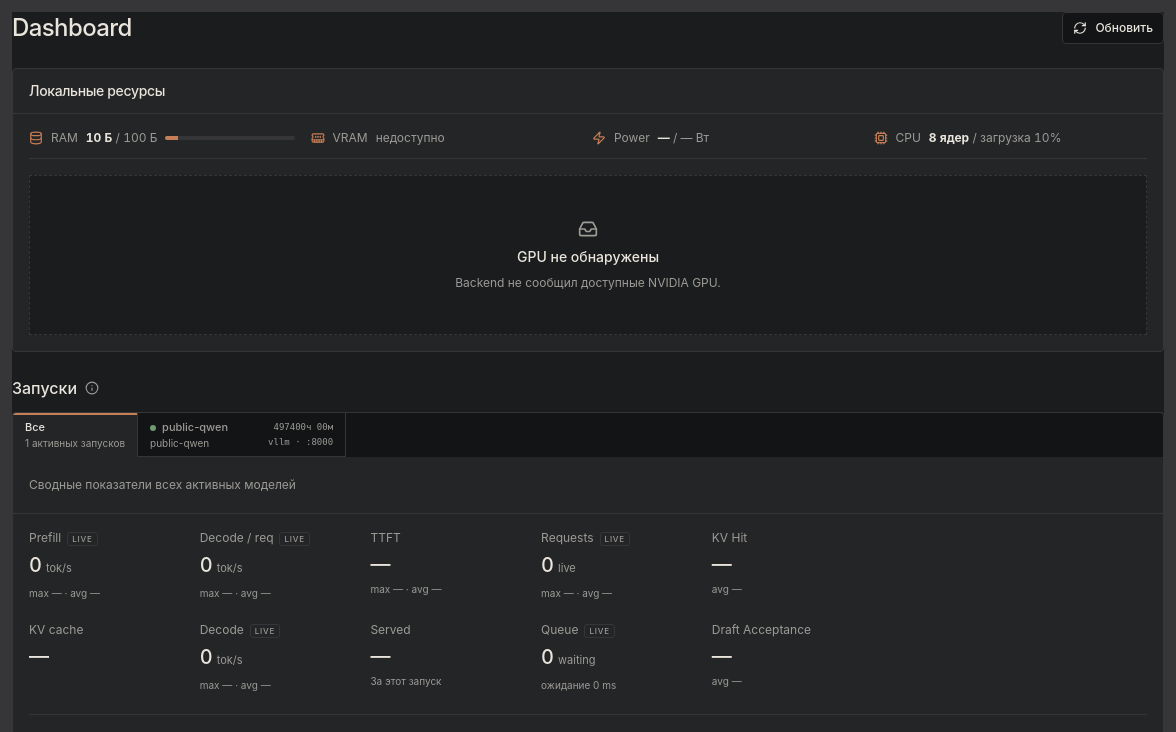
Test: Dashboard workflow › offers stop for an external instance and surfaces the operation contract
Expected: the text "Parallel" is not shown
Expected: the button "Остановить внешний" is not shown
Click the tab "public-qwen 497400ч 00м public-qwen vllm · :8000" at [242, 435], box [138,413,346,457]
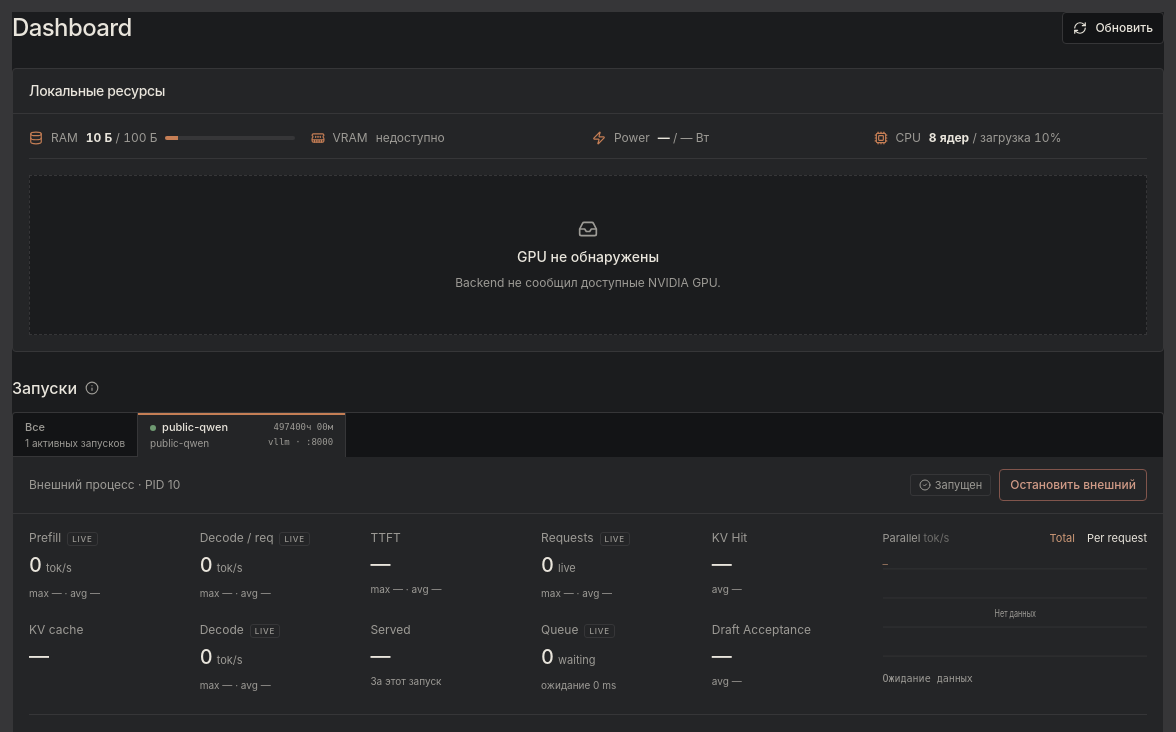
Click the button "Остановить внешний" at [1073, 485], box [999,469,1147,501]
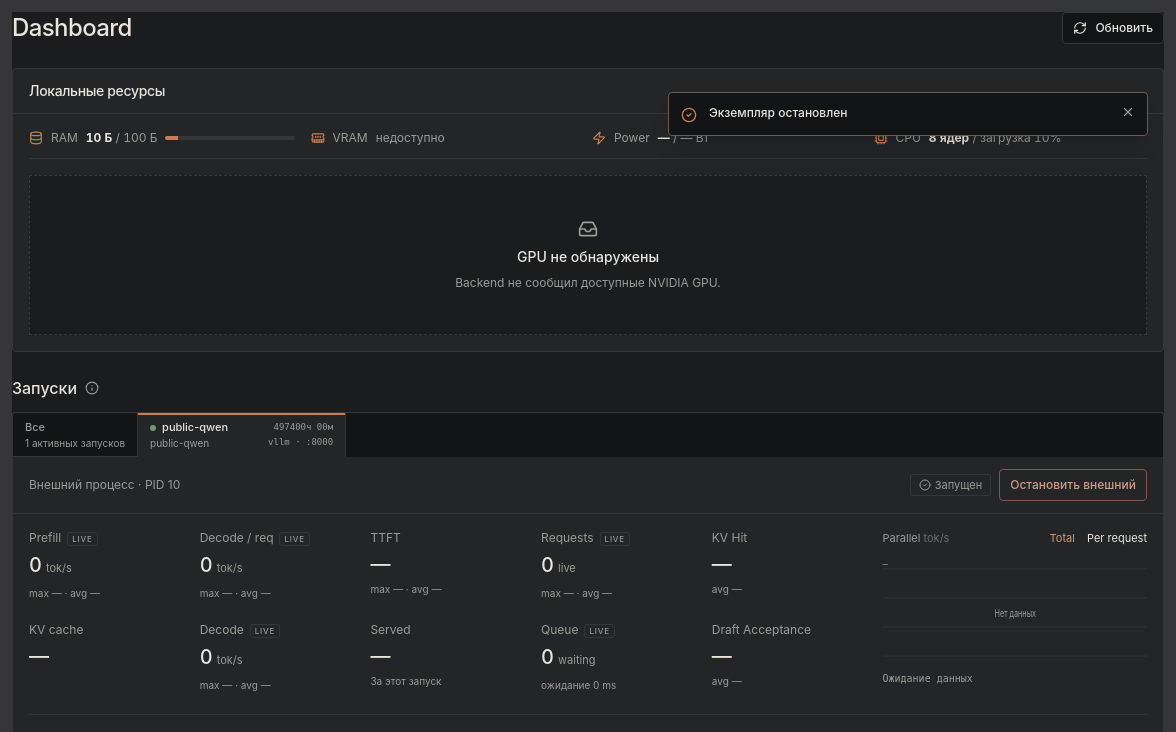
Now the message reads "Экземпляр остановлен", box [709,105,848,120]
